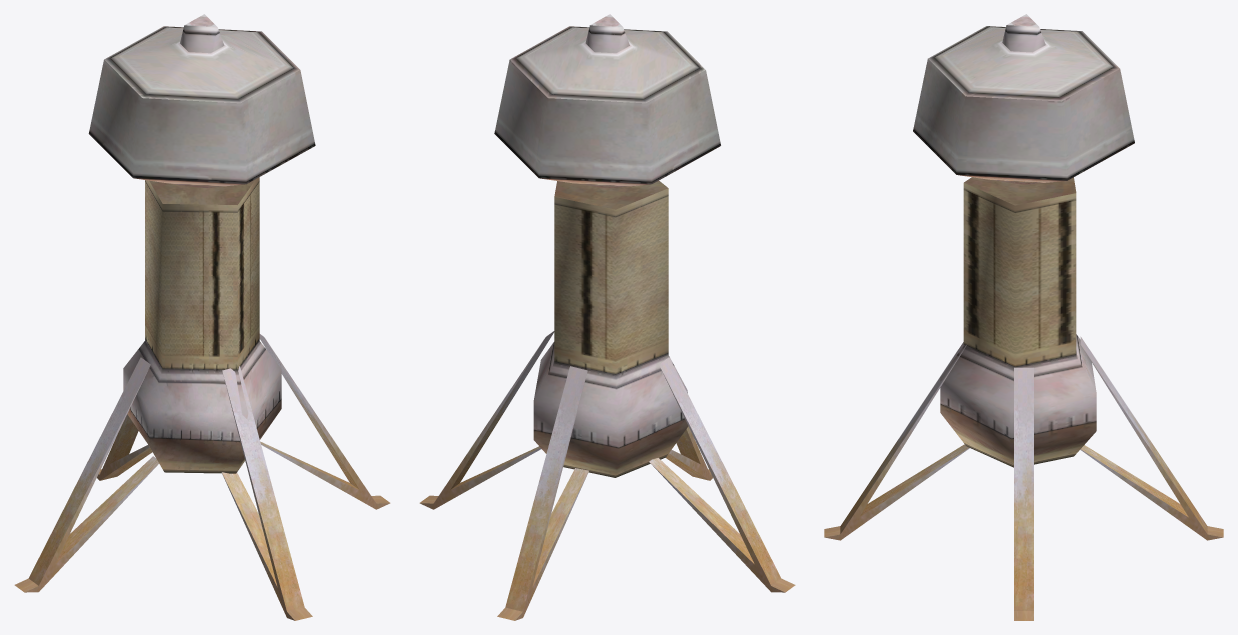
Rendered from eqp_slave_brazier_l1.fbx.
3 renders of one model, left to right at view 1: azimuth 30°, elevation 25°; view 2: azimuth 150°, elevation 25°; view 3: azimuth 270°, elevation 25°, orthographic. The views are drawn at different scales.
Visible parts, largest first — view 1: mesh_node; view 2: mesh_node; view 3: mesh_node.
Part boxes in pixels (x1=…): mesh_node: x1=14, y1=14, x2=390, y2=620; mesh_node: x1=419, y1=14, x2=795, y2=620; mesh_node: x1=824, y1=14, x2=1223, y2=620.
Size of the model in its own units: 0.4802 by 0.6579 by 0.463.
